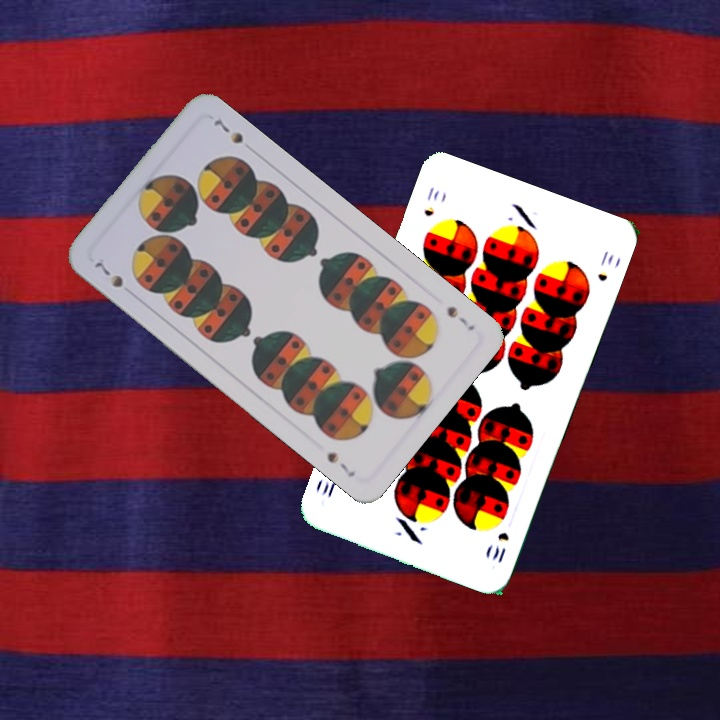S10: (488, 528, 512, 566), (420, 183, 442, 219)
S7: (90, 257, 126, 291), (443, 302, 478, 334)
